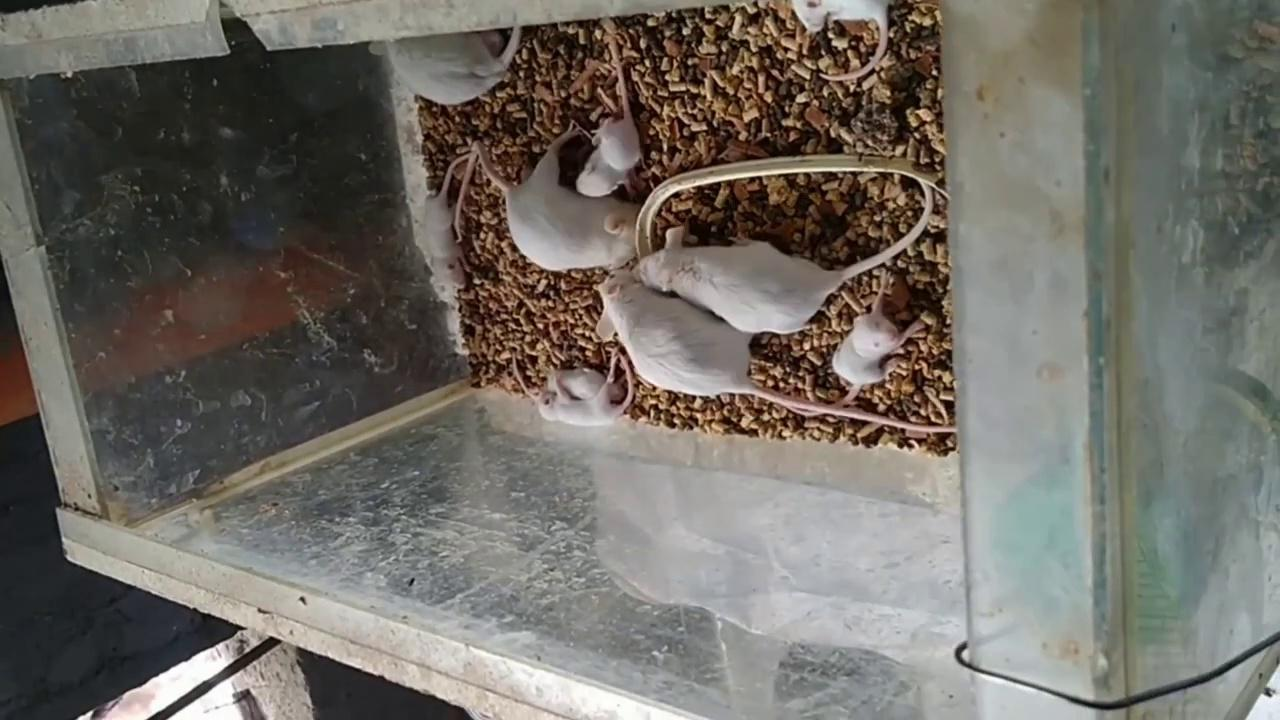rat: (598, 275, 952, 432), (629, 175, 931, 333), (454, 120, 653, 273), (370, 26, 521, 106), (832, 304, 912, 409), (794, 0, 890, 82), (421, 152, 467, 282), (577, 115, 637, 196), (535, 390, 629, 423), (556, 367, 624, 397)
